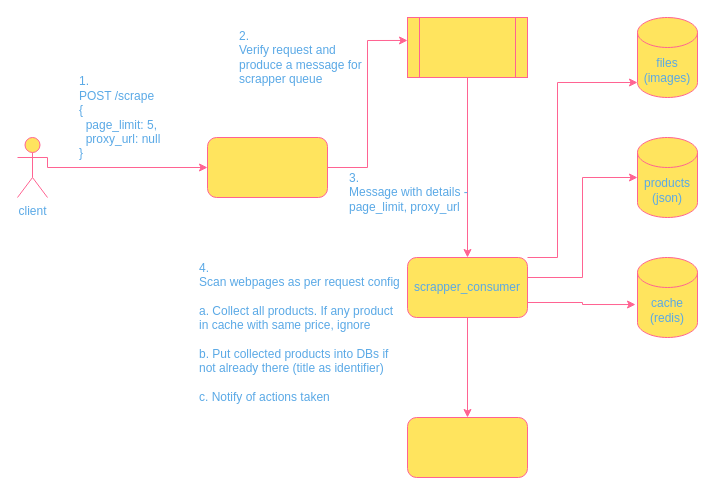
The diagram is 715 pixels wide and 495 high, and some of its shapes have lost their labels. Here are the shapes that lost their labels. From the top down, the centre of each, then its label:
At point (467, 47): "message broker (rabbitmq)".
At point (267, 167): "api + producer".
At point (467, 447): "notifier (hypothetical)".
